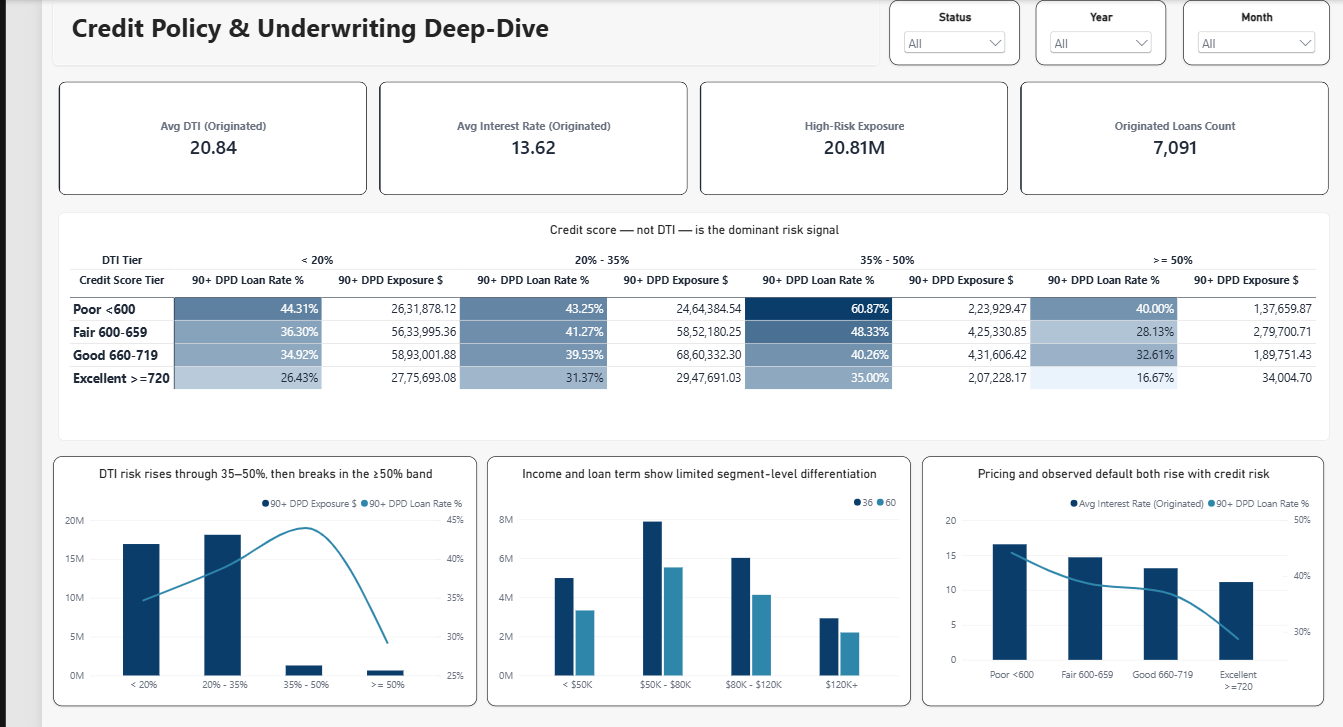

This screenshot's page, from the dashboard's own definition file:
{"tool":"powerbi","page":{"name":"Credit Policy & Underwriting","canvas":[1920,1080],"ordinal":1},"visuals":[{"type":"textbox","box":[16,0,1216,96],"z":0},{"type":"slicer","title":"Month","fields":{"Values":["DimDate.Month"]},"box":[1680,0,216,96],"z":1000},{"type":"slicer","title":"Year","fields":{"Values":["DimDate.Year"]},"box":[1464,0,192,96],"z":2000},{"type":"slicer","title":"Status","fields":{"Values":["FactLoanApplication.ApplicationStatus"]},"box":[1248,0,192,96],"z":3000},{"type":"cardVisual","fields":{"Data":["KPI_.Avg DTI (Originated)","KPI_.Avg Interest Rate (Originated)","KPI_.High-Risk Segment Exposure $","KPI_.Originated Loans Count"]},"box":[24,120,1872,168],"z":4000},{"type":"lineClusteredColumnComboChart","title":"DTI risk rises through 35–50%, then breaks in the ≥50% band","fields":{"Category":["FactLoanApplication.DTI Tier"],"Y":["KPI_.90+ DPD Exposure $"],"Y2":["KPI_.90+ DPD Loan Rate %"]},"box":[16,672,624,368],"z":5000},{"type":"clusteredColumnChart","title":"Income and loan term show minimal risk differentiation","fields":{"Category":["DimBorrower.Income Band"],"Series":["FactLoanApplication.TermMonths"],"Y":["KPI_.90+ DPD Exposure $"]},"box":[672,672,592,368],"z":6000},{"type":"lineClusteredColumnComboChart","title":"Pricing and observed default both rise with credit risk","fields":{"Category":["DimBorrower.Credit Score Tier"],"Y":["KPI_.Avg Interest Rate (Originated)"],"Y2":["KPI_.90+ DPD Loan Rate %"]},"box":[1296,672,592,368],"z":7000},{"type":"pivotTable","title":"Credit score — not DTI — is the dominant risk signal","fields":{"Columns":["FactLoanApplication.DTI Tier"],"Rows":["DimBorrower.Credit Score Tier"],"Values":["KPI_.90+ DPD Loan Rate %","KPI_.90+ DPD Exposure $"]},"box":[24,312,1872,336],"z":8000}]}

Visuals, with their boxes on the page's 1920x1080 design canvas (x1, y1, x2, y2). These are canvas units, not pixel positions in the 1343x727 screenshot, which may show the page scaled, cropped or inside an application window:
textbox: pyautogui.locateOnScreen(16, 0, 1232, 96)
"Month" slicer: pyautogui.locateOnScreen(1680, 0, 1896, 96)
"Year" slicer: pyautogui.locateOnScreen(1464, 0, 1656, 96)
"Status" slicer: pyautogui.locateOnScreen(1248, 0, 1440, 96)
cardVisual - KPI_.Avg DTI (Originated) x KPI_.Avg Interest Rate (Originated): pyautogui.locateOnScreen(24, 120, 1896, 288)
"DTI risk rises through 35–50%, then breaks in the ≥50% band" lineClusteredColumnComboChart: pyautogui.locateOnScreen(16, 672, 640, 1040)
"Income and loan term show minimal risk differentiation" clusteredColumnChart: pyautogui.locateOnScreen(672, 672, 1264, 1040)
"Pricing and observed default both rise with credit risk" lineClusteredColumnComboChart: pyautogui.locateOnScreen(1296, 672, 1888, 1040)
"Credit score — not DTI — is the dominant risk signal" pivotTable: pyautogui.locateOnScreen(24, 312, 1896, 648)
